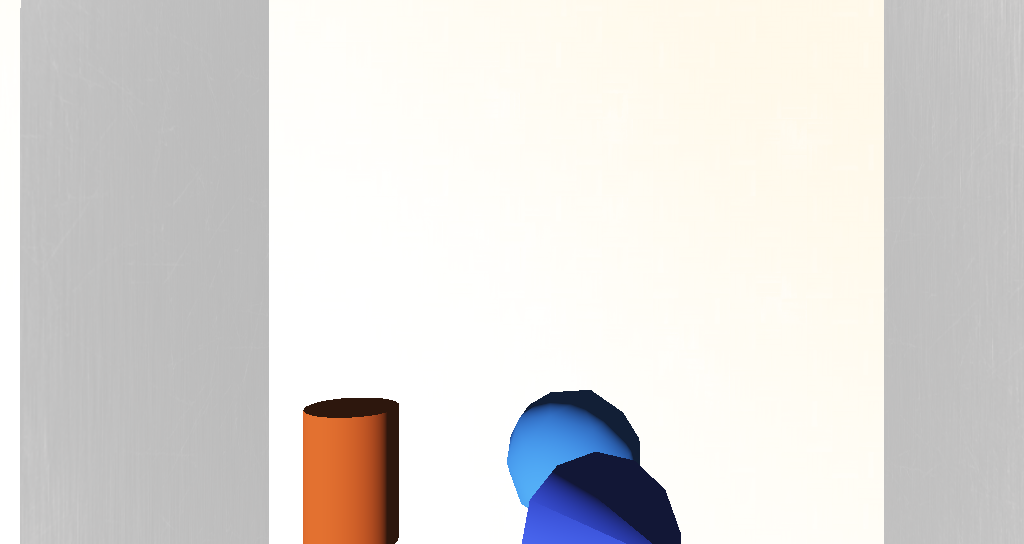cone: (371, 310, 424, 358)
cylinder: (475, 313, 563, 384)
sphere: (475, 308, 536, 351)
